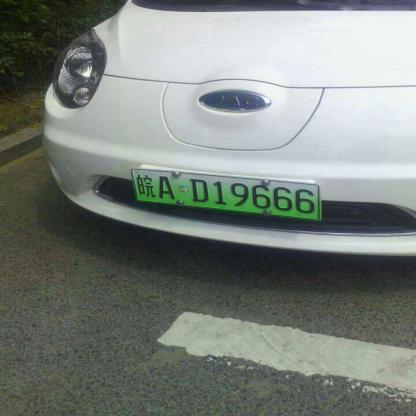lp: (130, 168, 320, 220)
